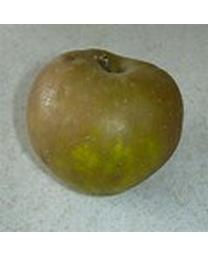apple: (24, 47, 183, 195)
